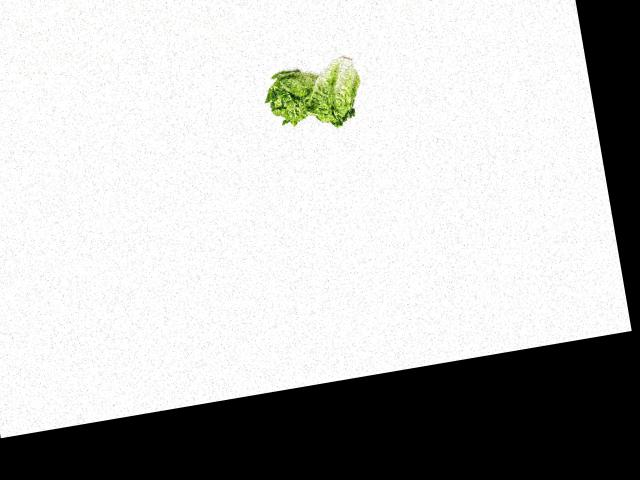lettuce: (259, 56, 330, 130)
